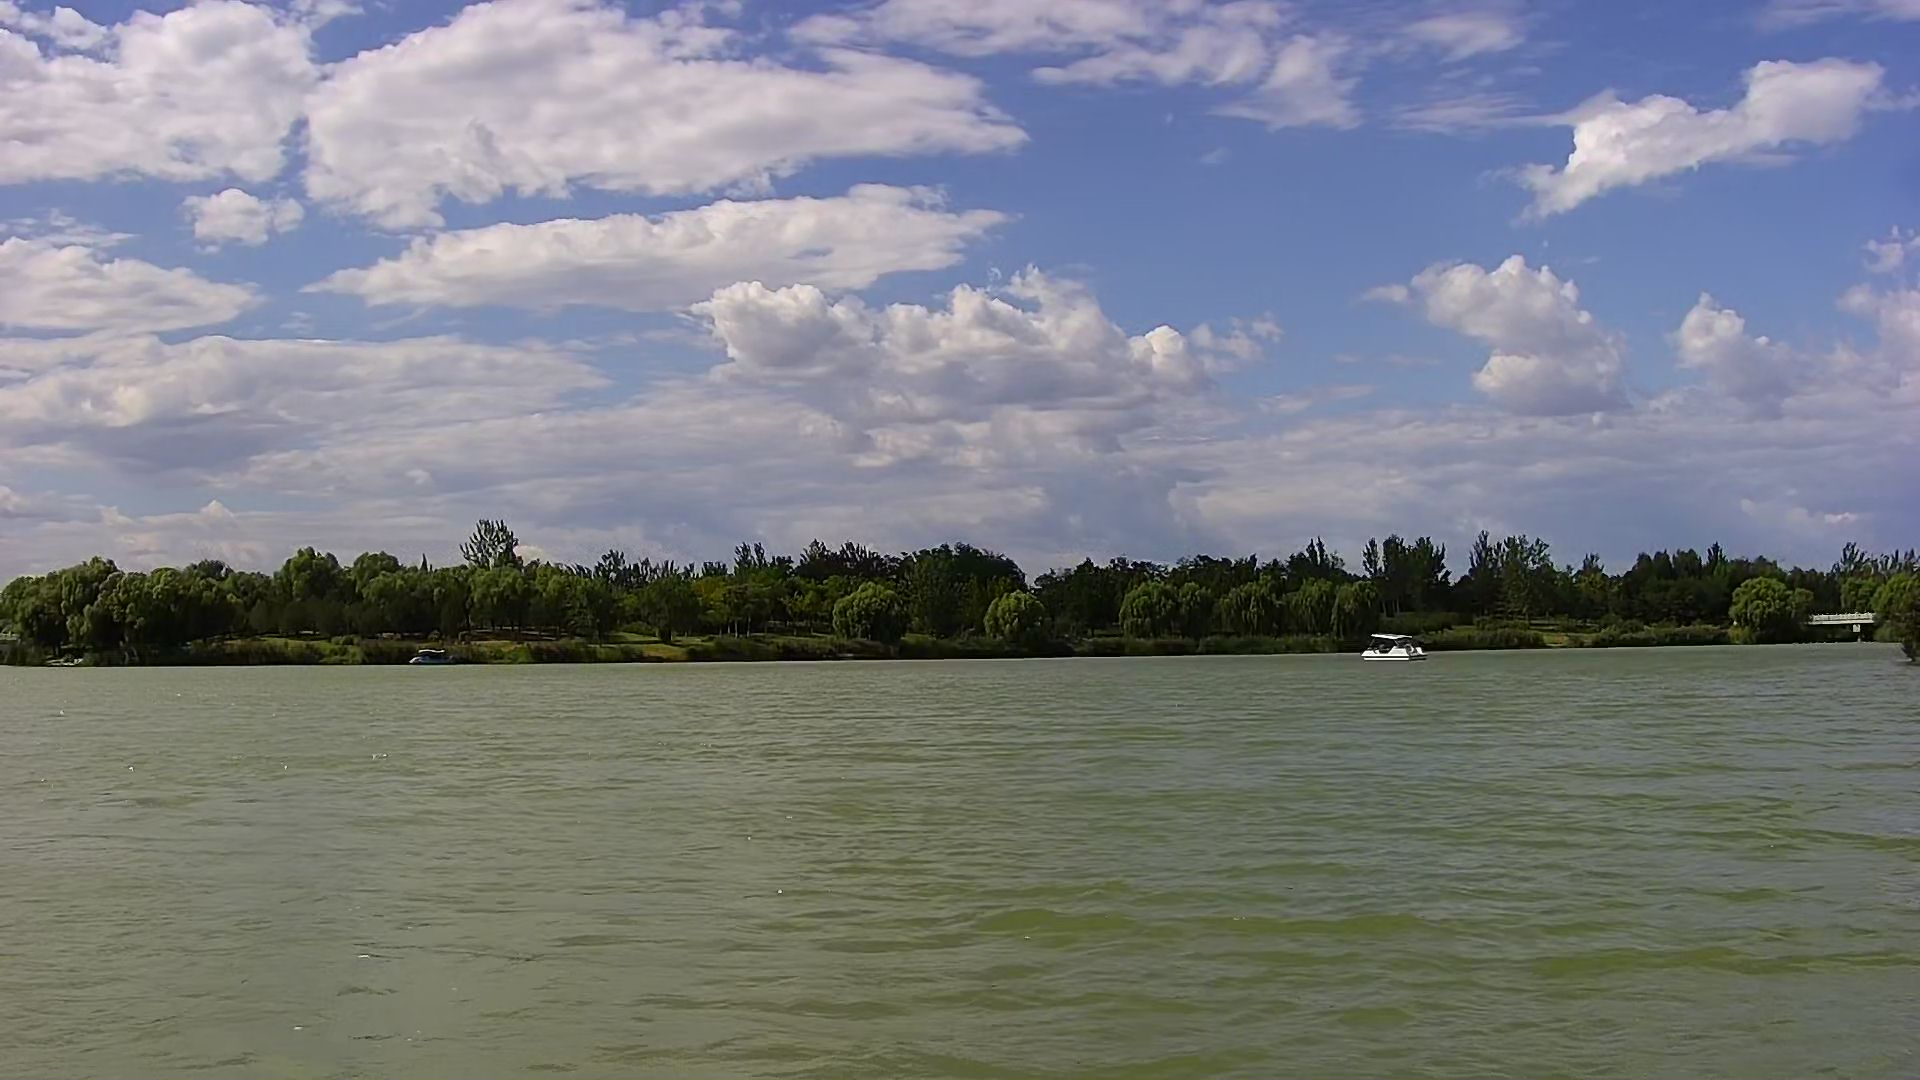boat: (1357, 632, 1427, 665), (401, 646, 464, 665)
